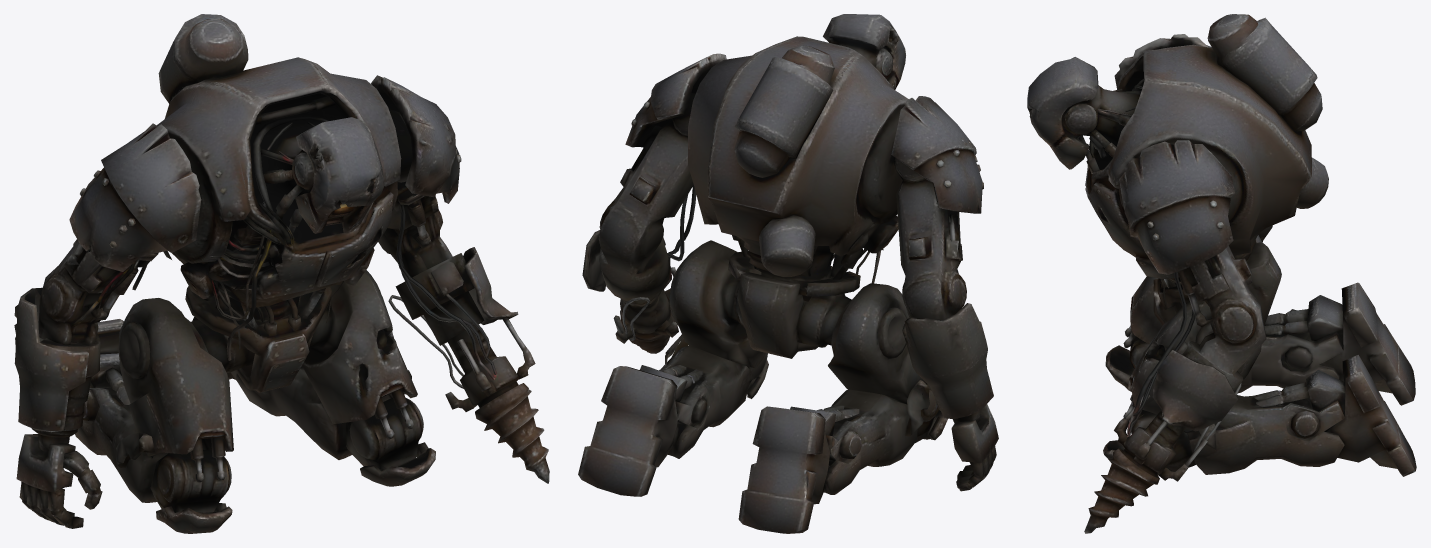
The model's file is selected.glb.
3 renders of one model, left to right at view 1: azimuth 30°, elevation 25°; view 2: azimuth 150°, elevation 25°; view 3: azimuth 270°, elevation 25°, orthographic. The views are drawn at different scales.
Visible parts, largest first — view 1: tripo_node_74eafdf5-6370-4a12-a203-f21eea6f7054; view 2: tripo_node_74eafdf5-6370-4a12-a203-f21eea6f7054; view 3: tripo_node_74eafdf5-6370-4a12-a203-f21eea6f7054.
Boxes of the visible parts, x1,y1,x2,y2 form: tripo_node_74eafdf5-6370-4a12-a203-f21eea6f7054: [14, 14, 549, 533]; tripo_node_74eafdf5-6370-4a12-a203-f21eea6f7054: [578, 14, 998, 533]; tripo_node_74eafdf5-6370-4a12-a203-f21eea6f7054: [1027, 14, 1416, 533].
Bounding box in the file's own units: 0.9995 × 0.9448 × 0.8169.
Materials: 1 (1 with a texture image).
